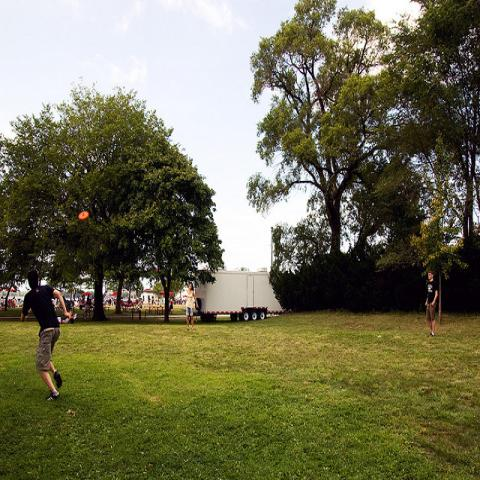truck: (195, 271, 287, 323)
